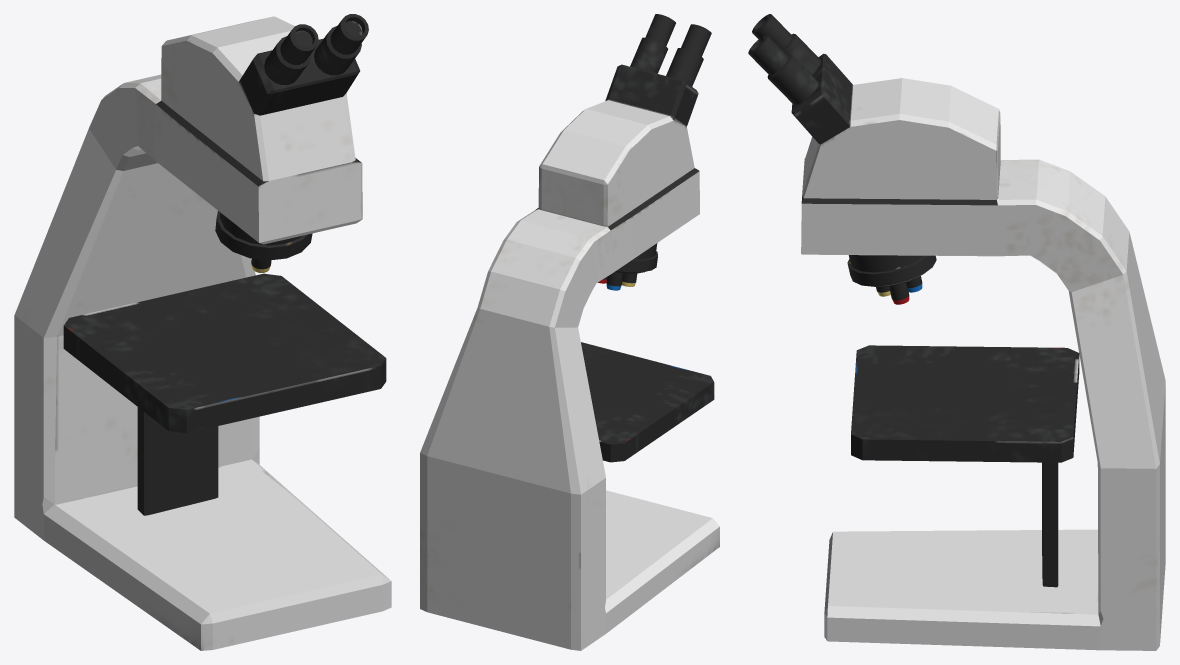
Rendered from microscope00.fbx.
The picture shows the model from 3 angles, left to right: view 1: azimuth 30°, elevation 25°; view 2: azimuth 150°, elevation 25°; view 3: azimuth 270°, elevation 25°; orthographic projection. The views are drawn at different scales.
Visible parts, largest first — view 1: microscope.001; view 2: microscope.001; view 3: microscope.001.
Part boxes in pixels (box(x1,y1,x2,y2)): microscope.001: box(14, 14, 391, 650); microscope.001: box(420, 14, 719, 650); microscope.001: box(748, 14, 1165, 650).
Bounding box in the file's own units: 0.6384 × 1.75 × 1.16.
Materials: 1 (1 with a texture image).
